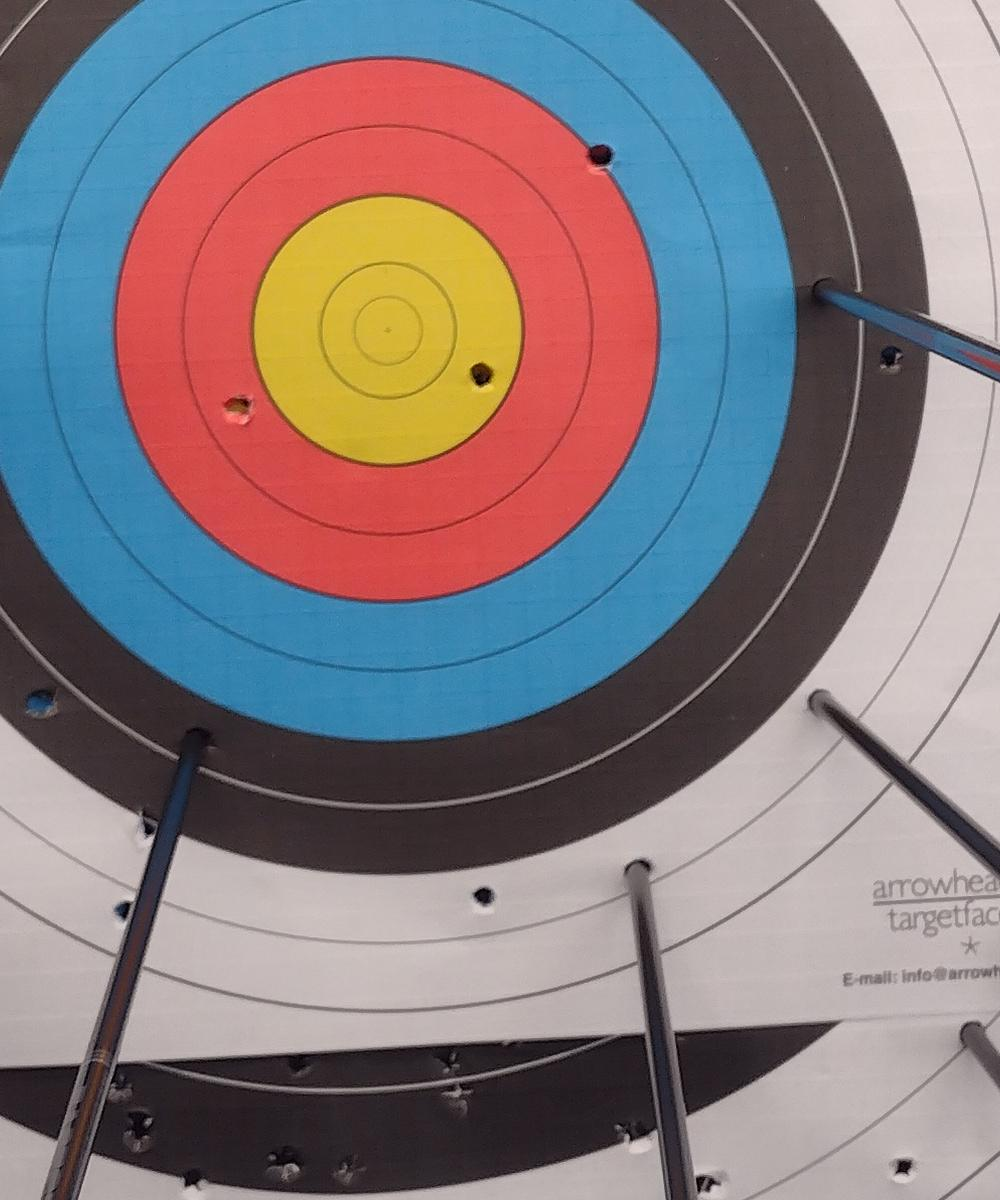10-Ring: (322, 265, 457, 398)
4-Ring: (0, 0, 863, 809)
5-Ring: (0, 0, 793, 742)
6-Ring: (48, 0, 728, 670)
7-Ring: (113, 59, 658, 604)
8-Ring: (154, 97, 620, 563)
9-Ring: (201, 146, 572, 517)
